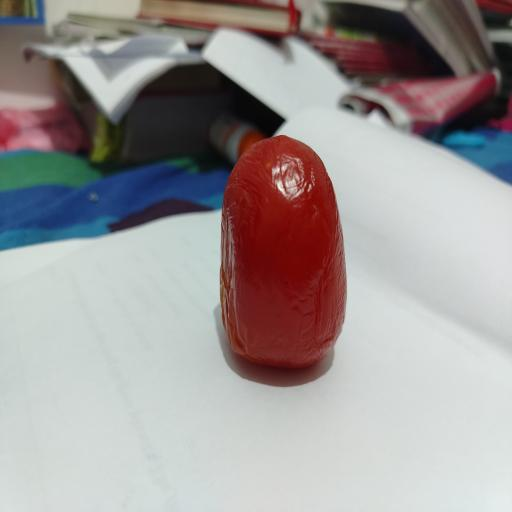spoiled: (220, 136, 347, 367)
